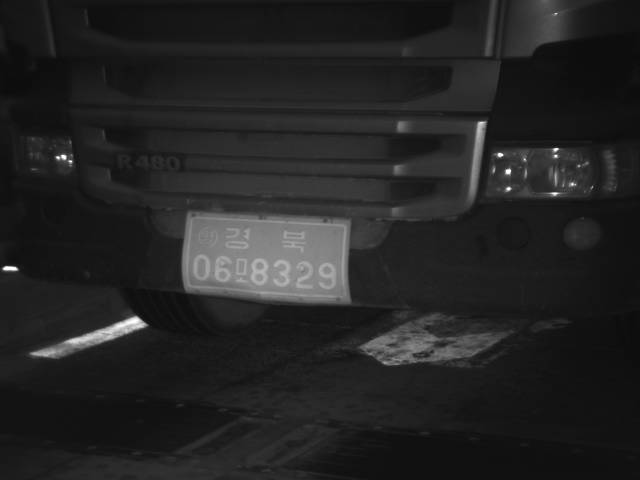car: (1, 1, 640, 334)
plate: (181, 208, 353, 307)
